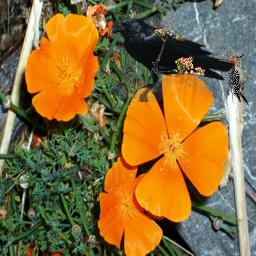Crow: (105, 15, 235, 102)
Woodpecker: (226, 51, 250, 110)
